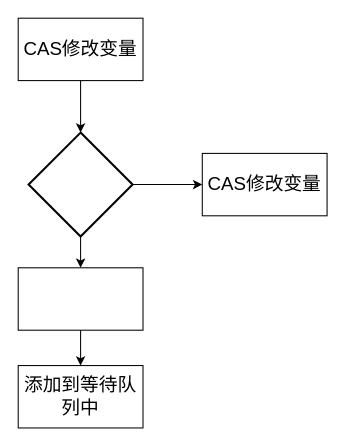
This 345x446 diagram has some shape labels left out. Here are the shapes that lost their labels. From the top down, the centre of each, then its label:
At [80,184]: "修改成功".
At [80,298]: "waiter对象封装线程".
